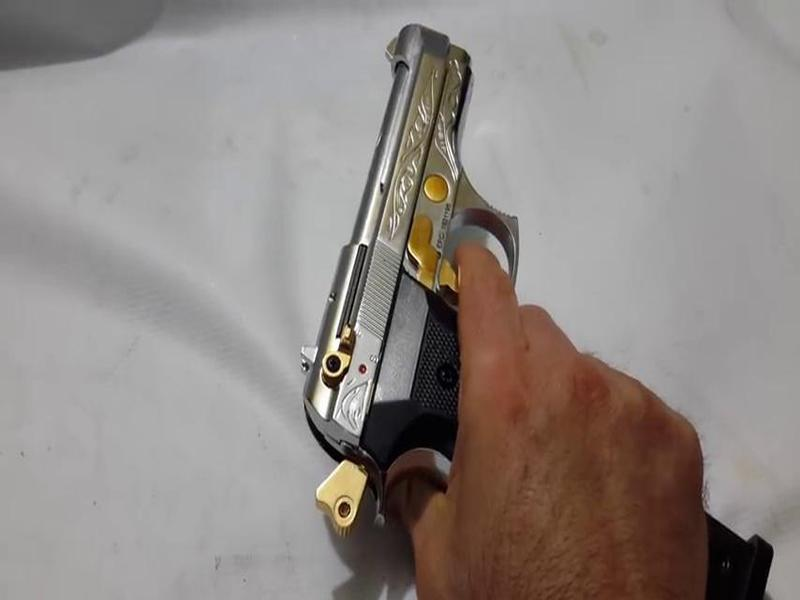Pistola: (303, 20, 602, 531)
